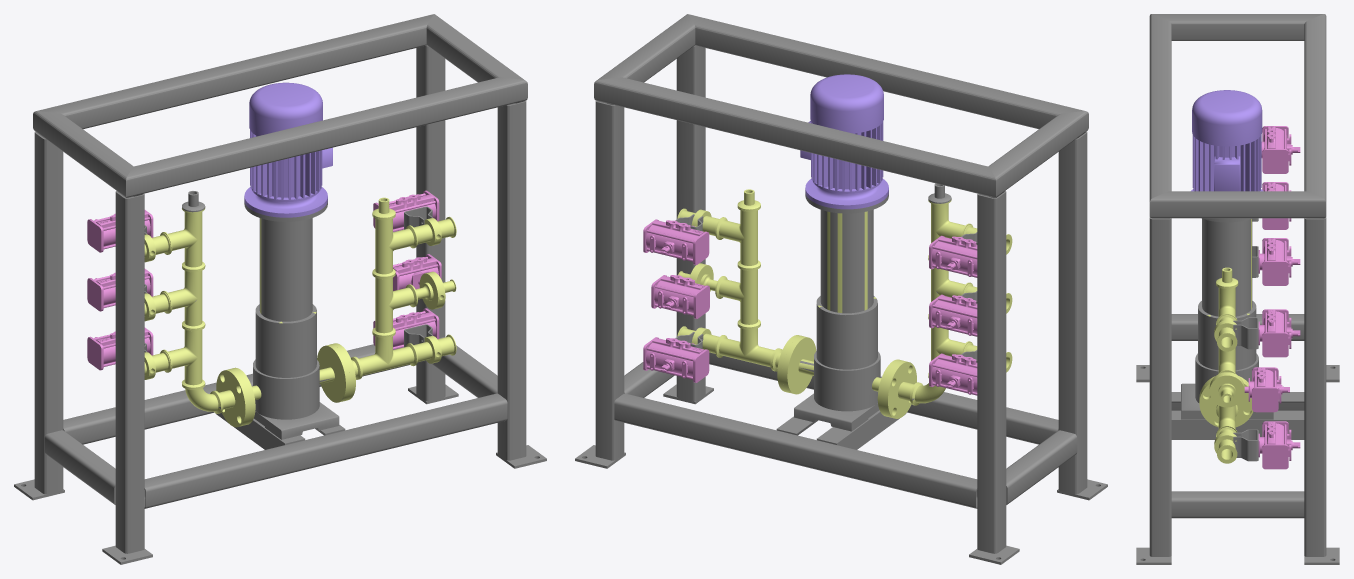
File: WIP.FBX
3 renders of one model, left to right at view 1: azimuth 30°, elevation 25°; view 2: azimuth 150°, elevation 25°; view 3: azimuth 270°, elevation 25°, orthographic. The views are drawn at different scales.
Visible parts, largest first — view 1: WIP; view 2: WIP; view 3: WIP.
Part boxes in pixels (box(x1,y1,x2,y2)): WIP: box(14, 14, 546, 564); WIP: box(575, 14, 1107, 564); WIP: box(1136, 14, 1339, 564).
Size of the model in its own units: 106 by 46 by 91.1.
